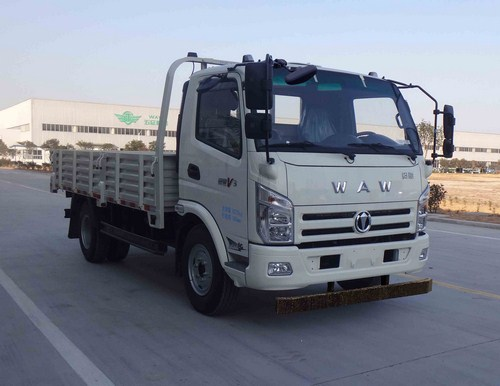smalltruck: (45, 57, 449, 315)
